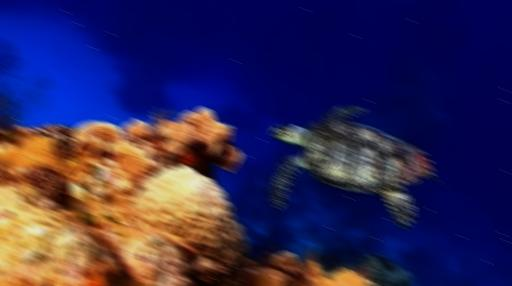Fish: (270, 105, 442, 228)
